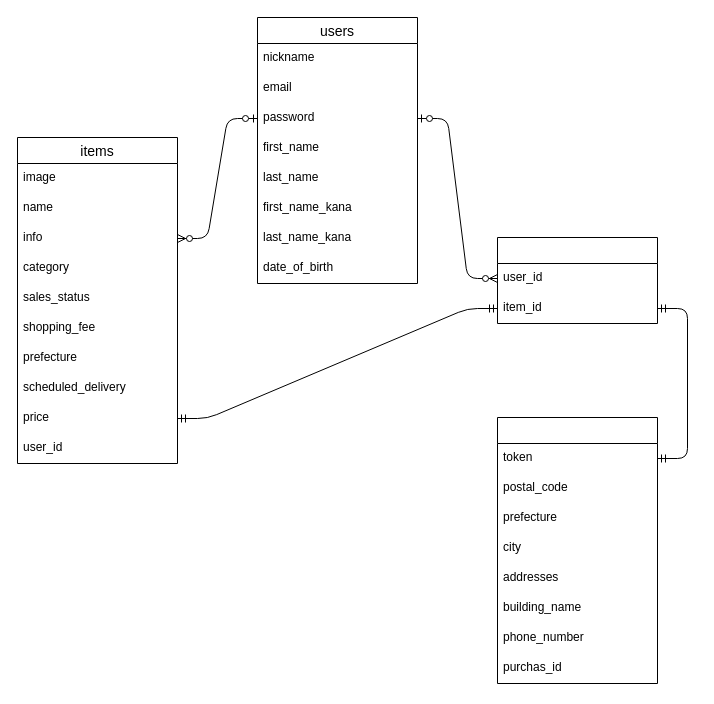
The diagram is 714 pixels wide and 704 high, and some of its shapes have lost their labels. Here are the shapes that lost their labels. From the top down, the box of each, then its label:
(496, 236, 658, 324): purchases
(496, 416, 658, 684): shipping_addresses
